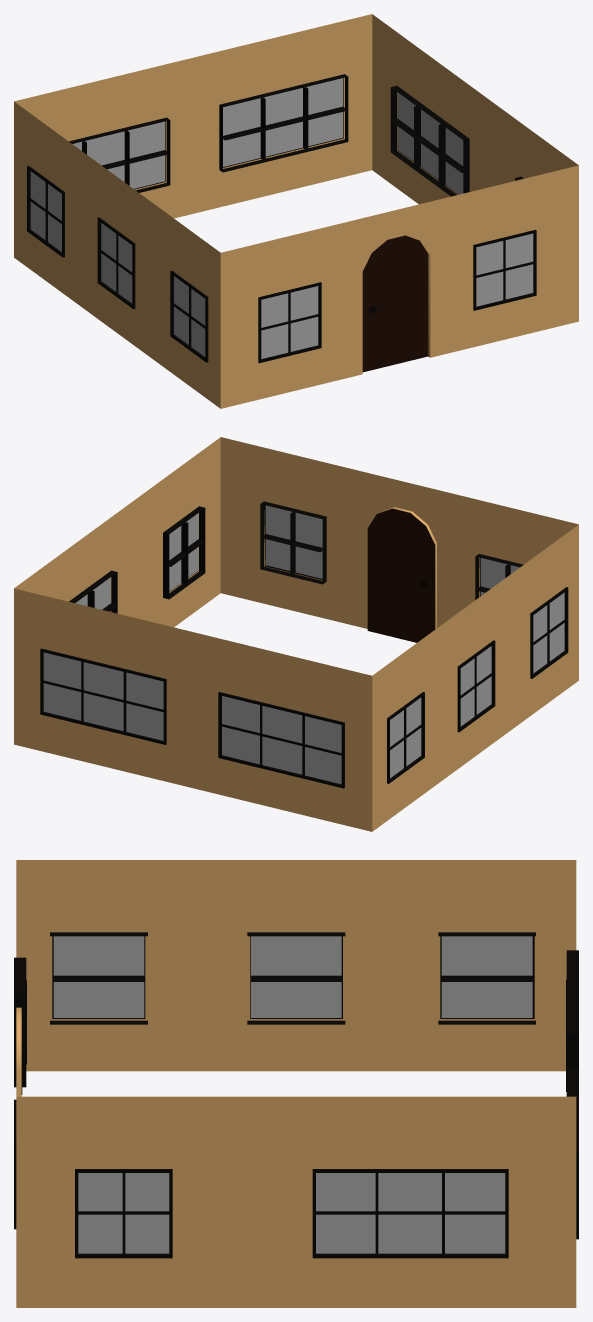
Rendered from Prop_HouseBottom_01.FBX.
3 renders of one model, top to bottom at view 1: azimuth 30°, elevation 25°; view 2: azimuth 150°, elevation 25°; view 3: azimuth 270°, elevation 25°, orthographic. The views are drawn at different scales.
Parts seen in each view (by area): view 1: Prop_HouseBottom_01; view 2: Prop_HouseBottom_01; view 3: Prop_HouseBottom_01.
Boxes of the visible parts, x1,y1,x2,y2 form: Prop_HouseBottom_01: (14, 14, 578, 408); Prop_HouseBottom_01: (14, 437, 578, 831); Prop_HouseBottom_01: (14, 860, 578, 1307).
Bounding box in the file's own units: 238 × 98.43 × 238.
